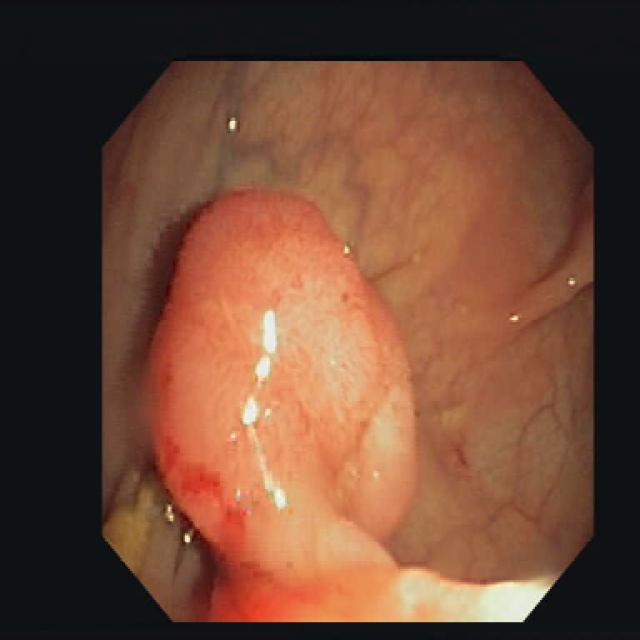tumor: (152, 189, 473, 620)
